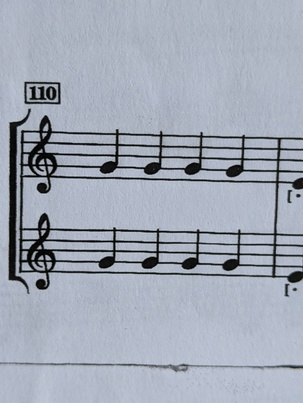note: (96, 125, 130, 180), (216, 232, 252, 279), (174, 232, 209, 277), (93, 228, 127, 274), (140, 134, 170, 180), (181, 134, 211, 180), (136, 229, 165, 271), (224, 140, 252, 182)
